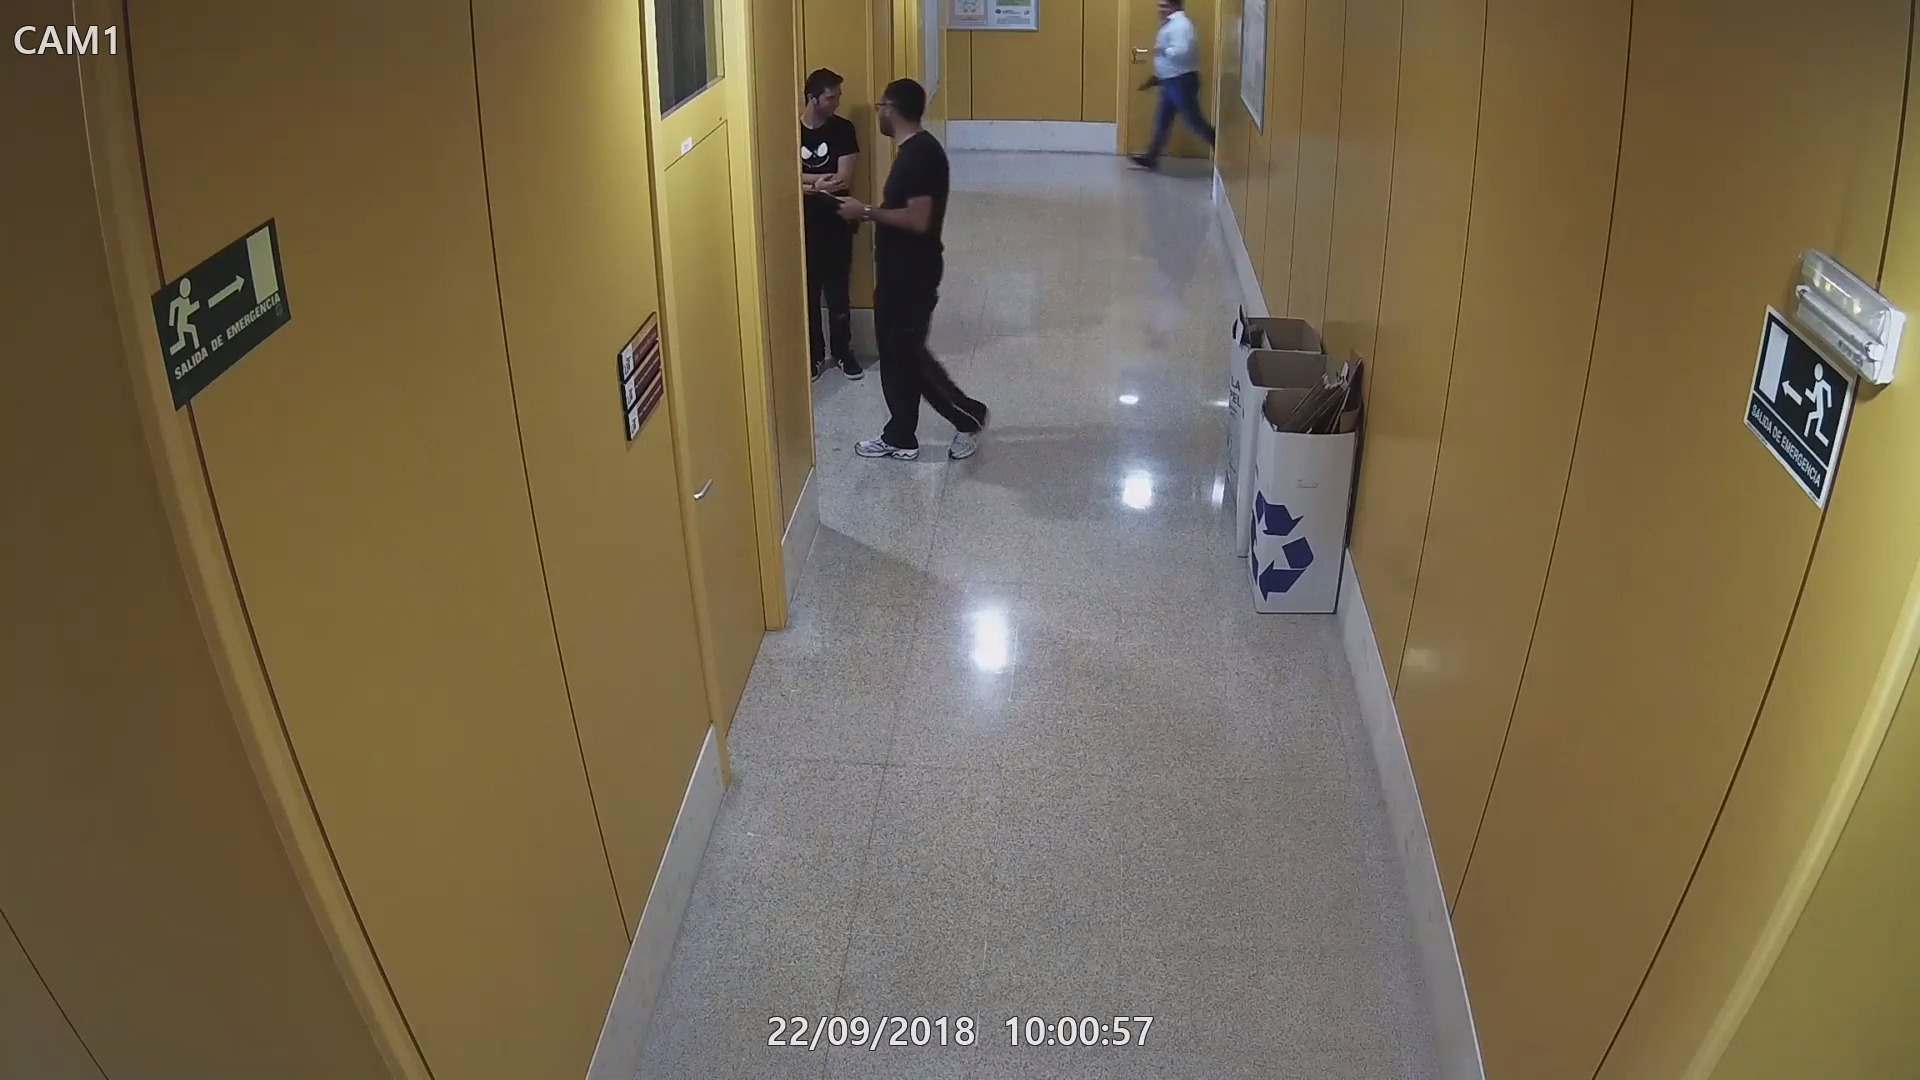Handgun: (1135, 69, 1164, 94)
